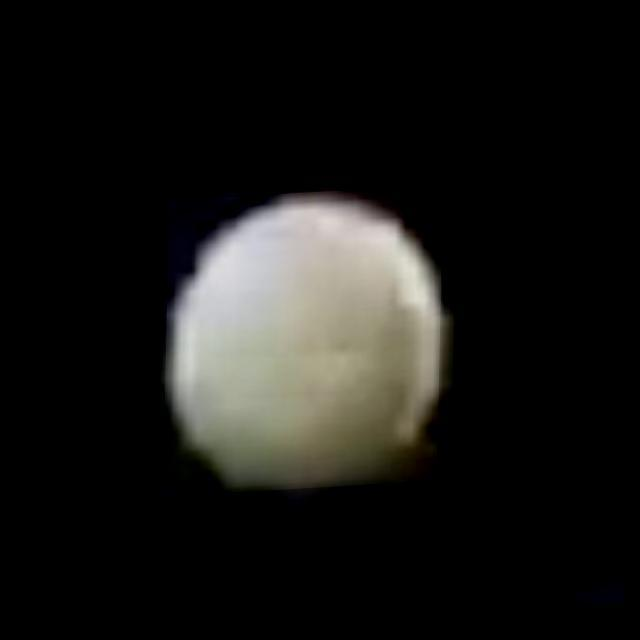-: (165, 190, 444, 499)
